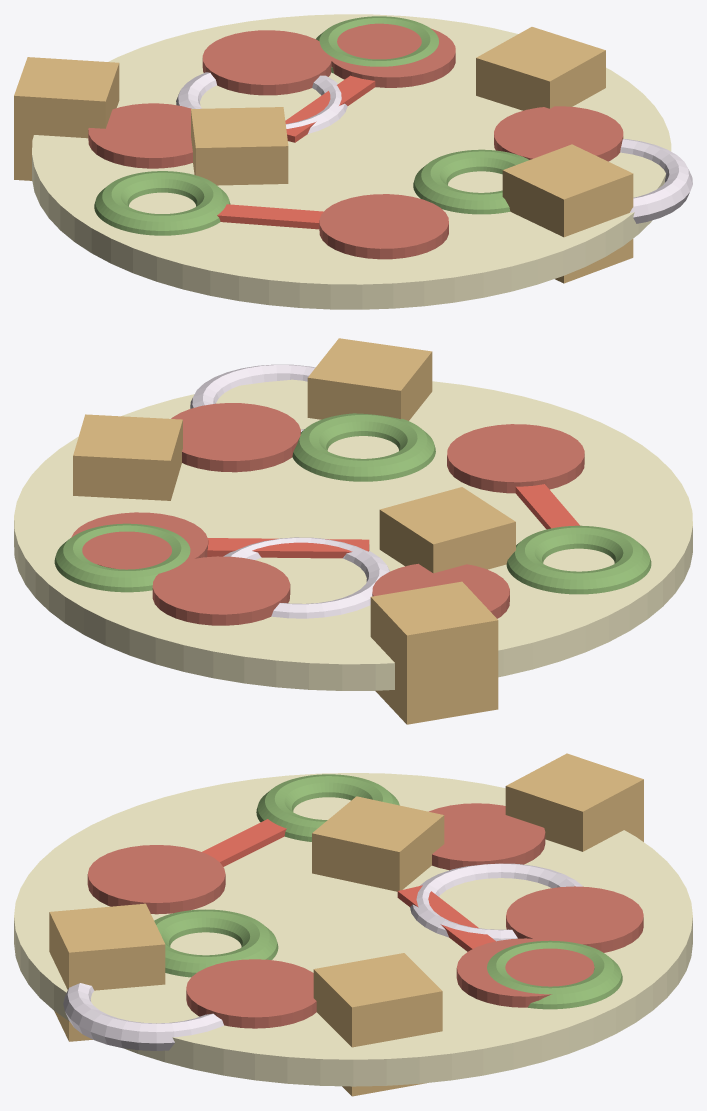
Rendered from layer_cheese.glb.
The picture shows the model from 3 angles, top to bottom: view 1: azimuth 30°, elevation 25°; view 2: azimuth 150°, elevation 25°; view 3: azimuth 270°, elevation 25°; orthographic projection. The views are drawn at different scales.
Parts seen in each view (by area): view 1: cheese_base, chick_2, chick_0, chick_3, chick_1, pep_3, pep_2, jal_1, pep_0, pep_1, pep_4, jal_2 (+5 smaller); view 2: cheese_base, chick_3, chick_1, chick_0, chick_2, pep_2, pep_3, pep_1, jal_1, jal_2, pep_4, jal_0 (+5 smaller); view 3: cheese_base, chick_0, chick_3, chick_1, chick_2, pep_3, pep_1, pep_2, pep_0, pep_4, jal_2, onion_0 (+5 smaller).
Boxes of the visible parts, <box> form: cheese_base: <box>32,14,671,309</box>; chick_2: <box>502,144,633,283</box>; chick_0: <box>476,27,605,110</box>; chick_3: <box>14,57,119,180</box>; chick_1: <box>191,107,288,185</box>; pep_3: <box>319,194,448,259</box>; pep_2: <box>202,30,332,95</box>; jal_1: <box>94,171,230,235</box>; pep_0: <box>88,103,192,168</box>; pep_1: <box>494,106,623,161</box>; pep_4: <box>327,23,455,87</box>; jal_2: <box>413,149,529,214</box>; cheese_base: <box>14,379,692,690</box>; chick_3: <box>370,581,498,724</box>; chick_1: <box>379,487,515,573</box>; chick_0: <box>73,414,182,500</box>; chick_2: <box>307,338,432,420</box>; pep_2: <box>152,556,290,625</box>; pep_3: <box>447,424,584,493</box>; pep_1: <box>171,403,300,472</box>; jal_1: <box>506,525,651,594</box>; jal_2: <box>292,413,435,481</box>; pep_4: <box>71,512,208,569</box>; jal_0: <box>54,523,190,592</box>; cheese_base: <box>14,773,692,1086</box>; chick_0: <box>313,953,442,1096</box>; chick_3: <box>505,753,643,851</box>; chick_1: <box>312,796,444,891</box>; chick_2: <box>49,903,165,1041</box>; pep_3: <box>87,845,225,914</box>; pep_1: <box>186,959,316,1028</box>; pep_2: <box>506,886,643,952</box>; pep_0: <box>429,803,545,870</box>; pep_4: <box>456,938,594,1007</box>; jal_2: <box>154,909,278,977</box>; onion_0: <box>63,983,223,1050</box>.
Size of the model in its own units: 0.276 by 0.04 by 0.276.
